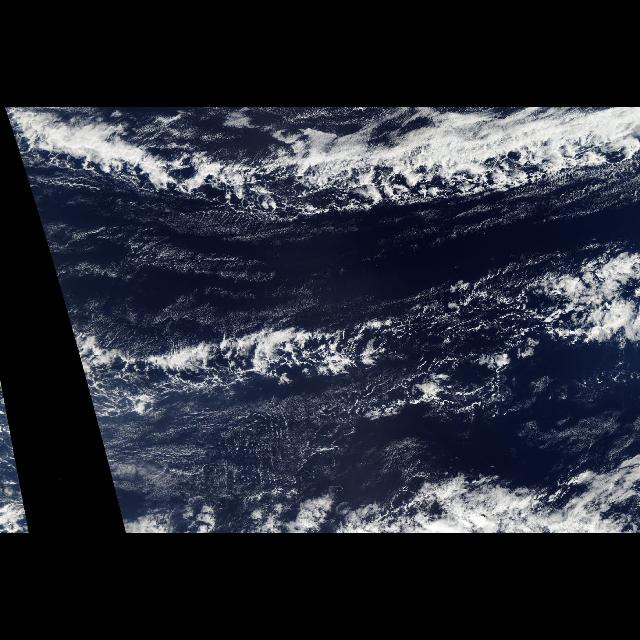Fish: (3, 107, 639, 410)
Gravel: (92, 235, 640, 427), (106, 114, 640, 210)
Sugar: (32, 198, 624, 332), (86, 387, 418, 501), (497, 368, 639, 472)
